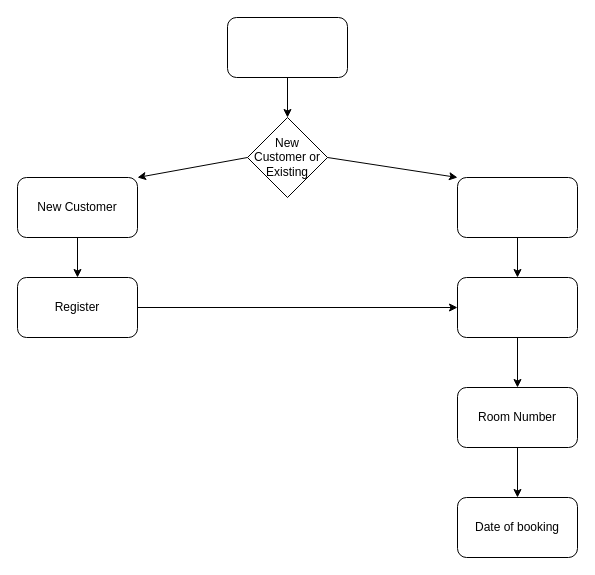
Image size: 595x575. Some labels were removed from this diagram. Here are the shapes that lost their labels. From the top down, the box of each, then its label:
(226, 16, 348, 78): Reservation
(456, 176, 578, 238): Existing Customer
(456, 276, 578, 338): Log In
